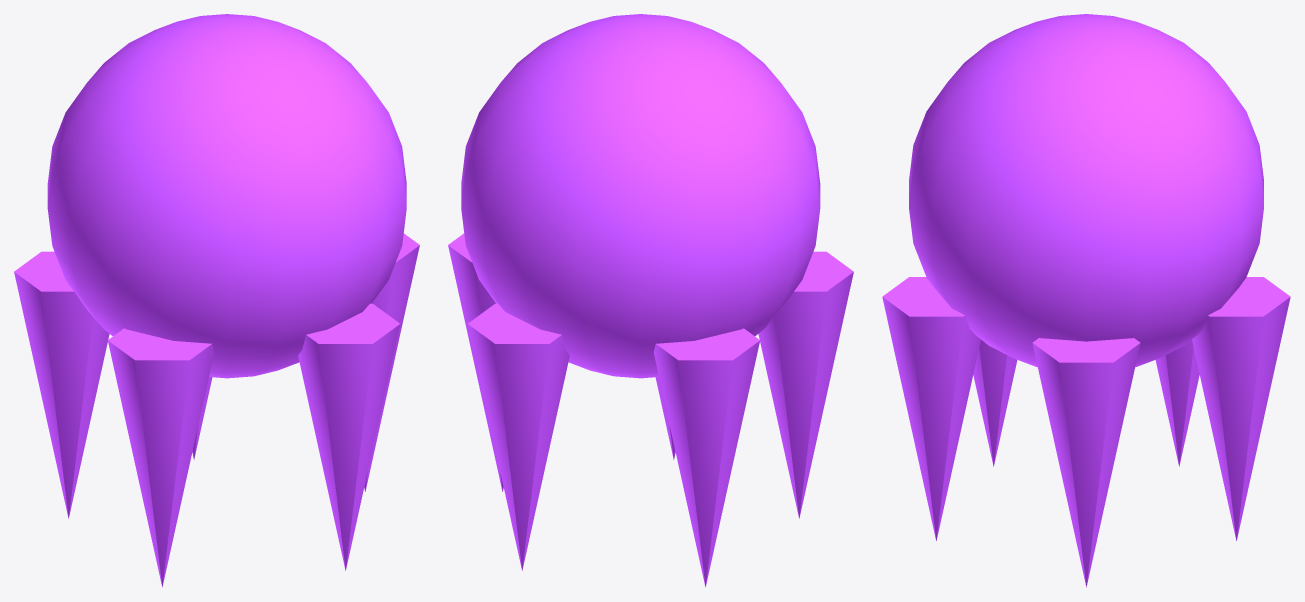
The model's file is neon_phantom.glb.
The picture shows the model from 3 angles, left to right: view 1: azimuth 30°, elevation 25°; view 2: azimuth 150°, elevation 25°; view 3: azimuth 270°, elevation 25°; orthographic projection.
Parts seen in each view (by area): view 1: core; view 2: core; view 3: core.
Part boxes in pixels (left/top/right/bottom): core: left=14, top=14, right=419, bottom=587; core: left=448, top=14, right=853, bottom=587; core: left=882, top=14, right=1290, bottom=587.
Bounding box in the file's own units: 0.8539 × 1.2 × 0.9057.
